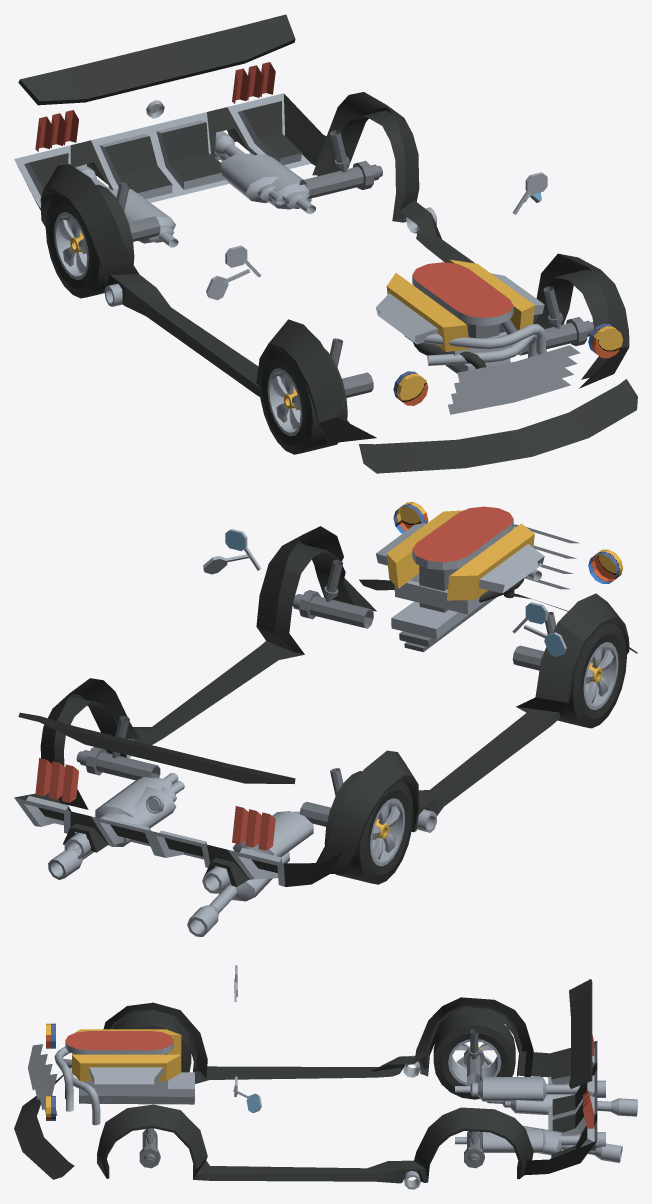
File: macchina_parti.fbx
3 views of the same model, one above another, from view 1: azimuth 30°, elevation 25°; view 2: azimuth 150°, elevation 25°; view 3: azimuth 270°, elevation 25° (orthographic). The views are drawn at different scales.
Parts seen in each view (by area): view 1: passaruota_1, paraurti_post_nuovo_1, motore_1, spoiler_post_1, spoiler_ant_1, sospensioni, griglia_1, ruota_1, ruota_2, scarico_nuovo_1, fari_post_1, fari_anteriori_1 (+3 smaller); view 2: passaruota_1, motore_1, paraurti_post_nuovo_1, sospensioni, ruota_2, ruota_1, scarico_nuovo_2, scarico_nuovo_1, spoiler_post_1, fari_post_1, fari_anteriori_1, specchietti_nuovi (+2 smaller); view 3: passaruota_1, motore_1, paraurti_post_nuovo_1, ruota_2, scarico_nuovo_1, scarico_nuovo_2, spoiler_post_1, spoiler_ant_1, sospensioni, griglia_1, ruota_1, fari_anteriori_1 (+1 smaller).
Boxes of the visible parts, x1,y1,x2,y2 form: passaruota_1: (40,92,629,443); paraurti_post_nuovo_1: (14,93,347,210); motore_1: (376,259,546,373); spoiler_post_1: (18,14,295,105); spoiler_ant_1: (359,379,637,473); sospensioni: (116,130,594,397); griglia_1: (448,345,580,414); ruota_1: (259,348,347,454); ruota_2: (45,184,134,298); scarico_nuovo_1: (75,131,315,247); fari_post_1: (35,62,275,151); fari_anteriori_1: (393,324,622,405); passaruota_1: (40,526,629,874); motore_1: (376,506,544,652); paraurti_post_nuovo_1: (14,789,341,886); sospensioni: (76,559,556,826); ruota_2: (324,771,413,884); ruota_1: (544,623,626,728); scarico_nuovo_2: (48,780,289,936); scarico_nuovo_1: (64,773,313,893); spoiler_post_1: (18,712,295,784); fari_post_1: (35,758,275,850); fari_anteriori_1: (393,502,622,583); specchietti_nuovi: (225,529,547,633); passaruota_1: (97,997,533,1189); motore_1: (54,1029,194,1125); paraurti_post_nuovo_1: (517,1041,597,1175); ruota_2: (433,1015,515,1099); scarico_nuovo_1: (455,1077,605,1152); scarico_nuovo_2: (487,1094,637,1162); spoiler_post_1: (569,979,592,1088); spoiler_ant_1: (14,1075,74,1179); sospensioni: (139,1029,484,1168); griglia_1: (28,1044,57,1115); ruota_1: (126,1021,191,1072); fari_anteriori_1: (46,1023,55,1120).
Bounding box in the file's own units: 223 × 98.17 × 456.
